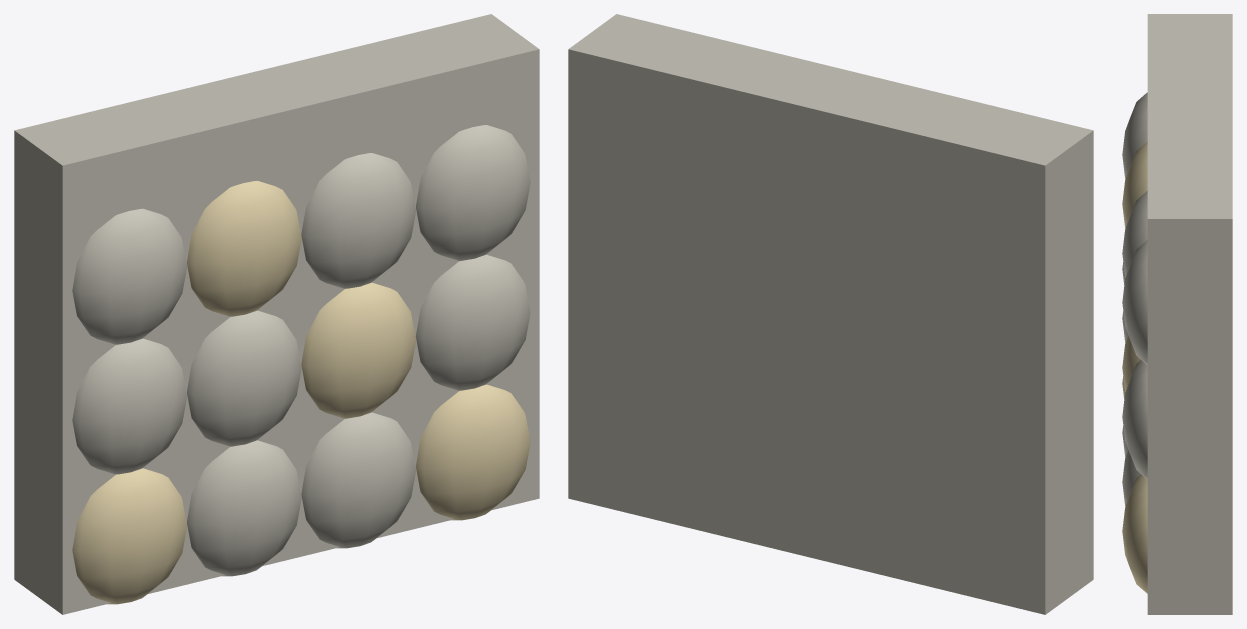
File: zoo-and-safari-park-builder-rock-wall-straight-0ea25994__21461.glb
3 views of the same model, side by side, from view 1: azimuth 30°, elevation 25°; view 2: azimuth 150°, elevation 25°; view 3: azimuth 270°, elevation 25° (orthographic). The views are drawn at different scales.
Visible parts, largest first — view 1: rock-wall-straight; view 2: rock-wall-straight; view 3: rock-wall-straight.
Part boxes in pixels (left/top/right/bottom): rock-wall-straight: left=14, top=14, right=539, bottom=614; rock-wall-straight: left=568, top=14, right=1093, bottom=614; rock-wall-straight: left=1122, top=14, right=1232, bottom=614.
Bounding box in the file's own units: 2 × 1.83 × 0.4549.
